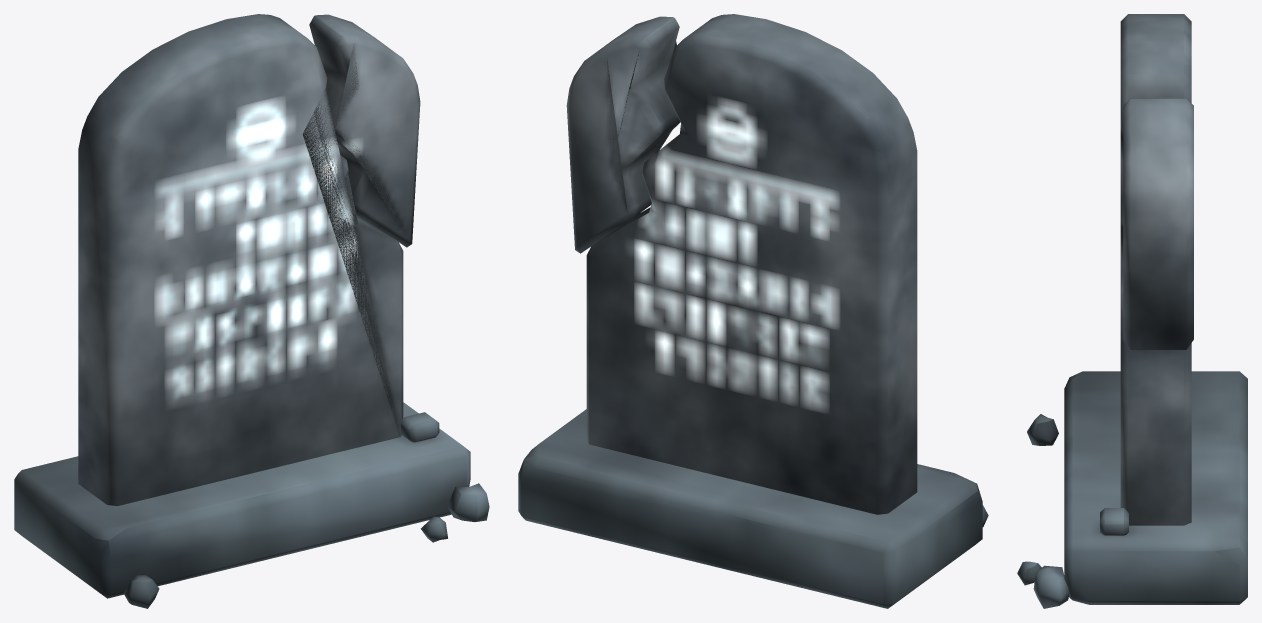
The model's file is LoreTablet.fbx.
3 views of the same model, side by side, from view 1: azimuth 30°, elevation 25°; view 2: azimuth 150°, elevation 25°; view 3: azimuth 270°, elevation 25° (orthographic). The views are drawn at different scales.
Parts seen in each view (by area): view 1: LoreTablet; view 2: LoreTablet; view 3: LoreTablet.
Boxes of the visible parts, x1,y1,x2,y2 form: LoreTablet: (14,14,489,608); LoreTablet: (518,14,988,608); LoreTablet: (1017,14,1247,608).
Bounding box in the file's own units: 1.02 × 1.28 × 0.5534.
